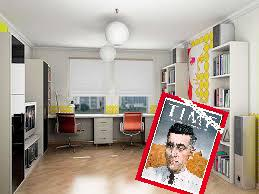times: (132, 91, 231, 193)
